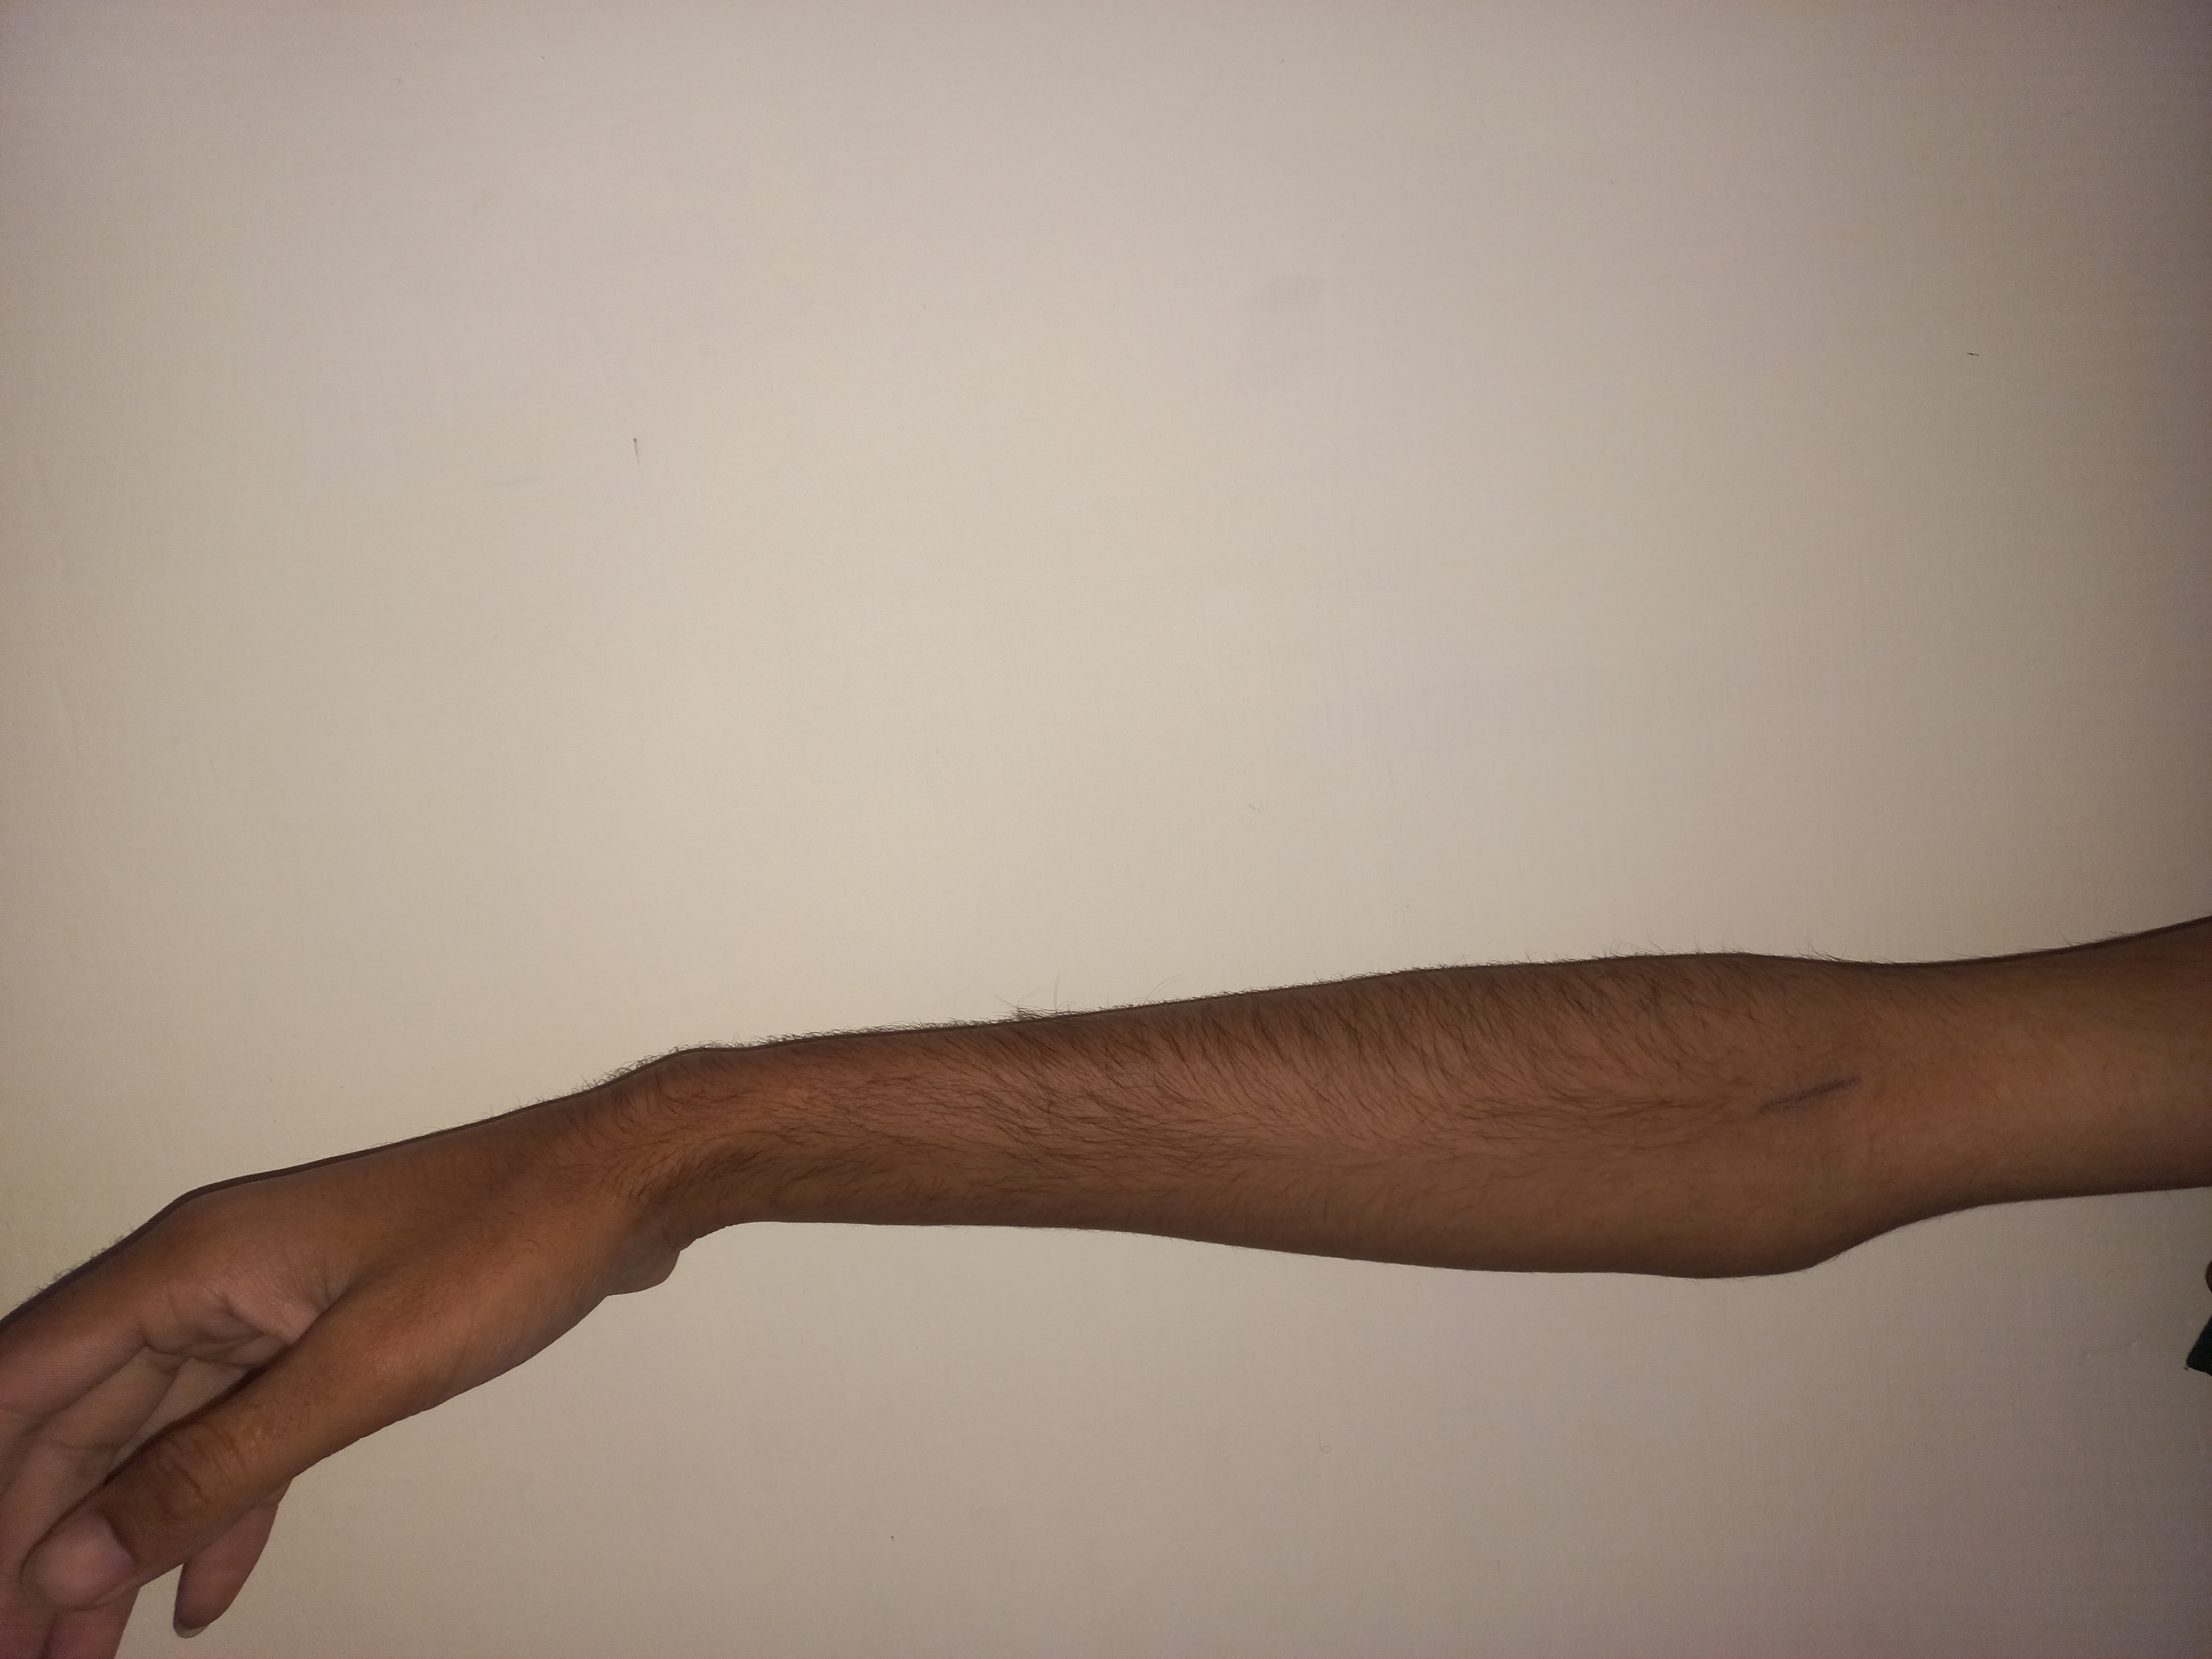vein: (1735, 1058, 1876, 1136)
